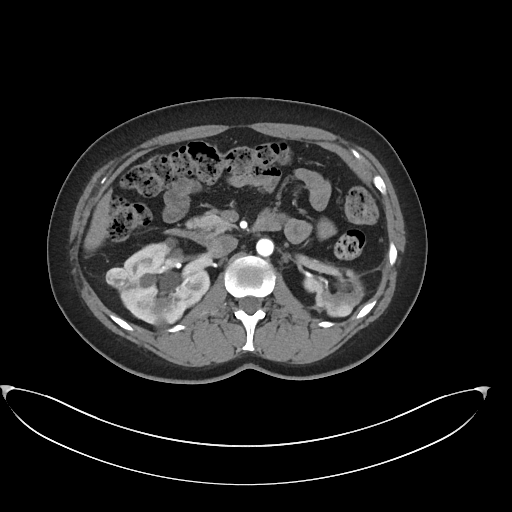Lesion: (102, 265, 132, 289)
